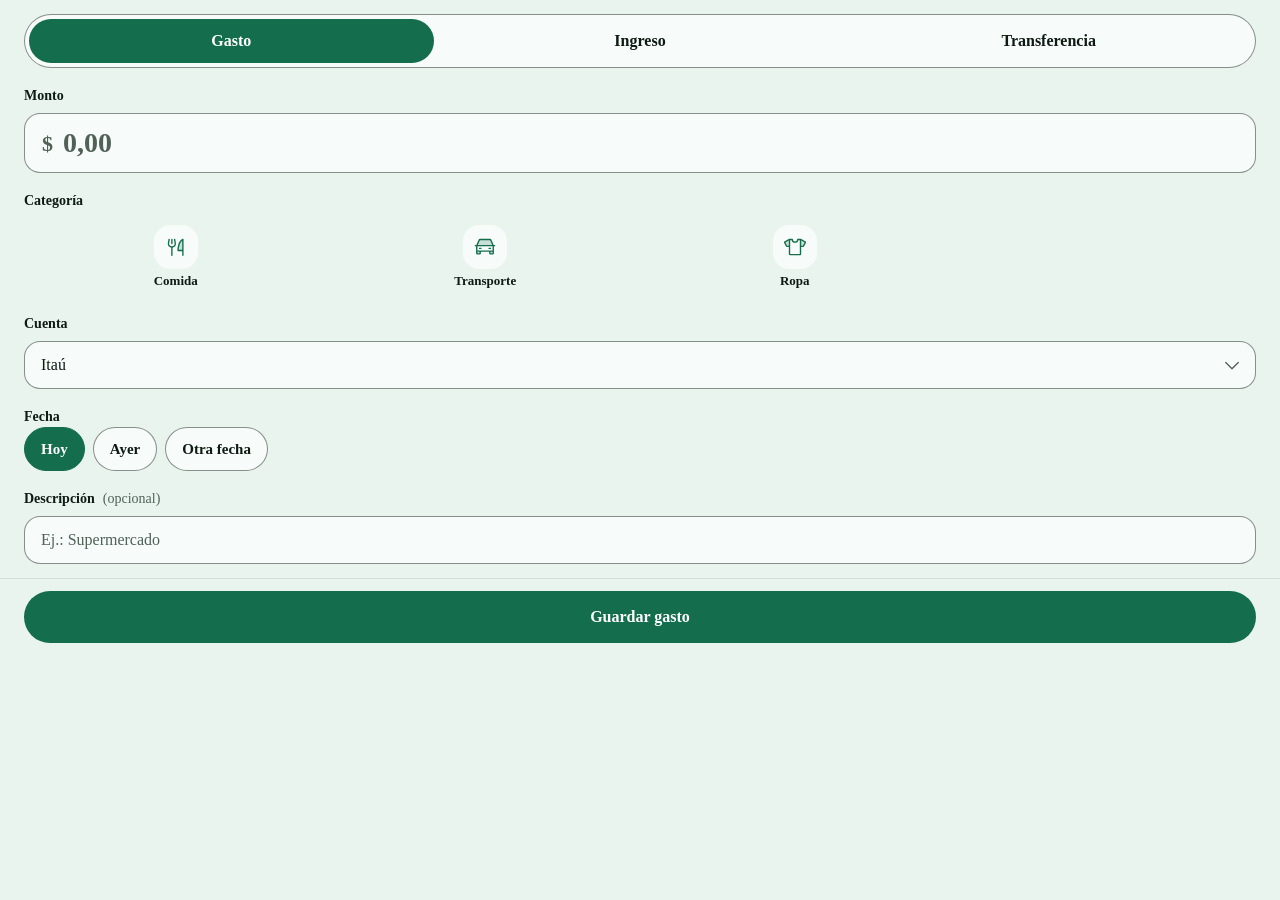
it: changing the type › starts 'Desde' on the account the form had, and 'Hacia' on nothing when there are several
Select "BROU Caja de ahorro" in the dropdown labelled "Cuenta": (640, 365) [24,341,1256,389]
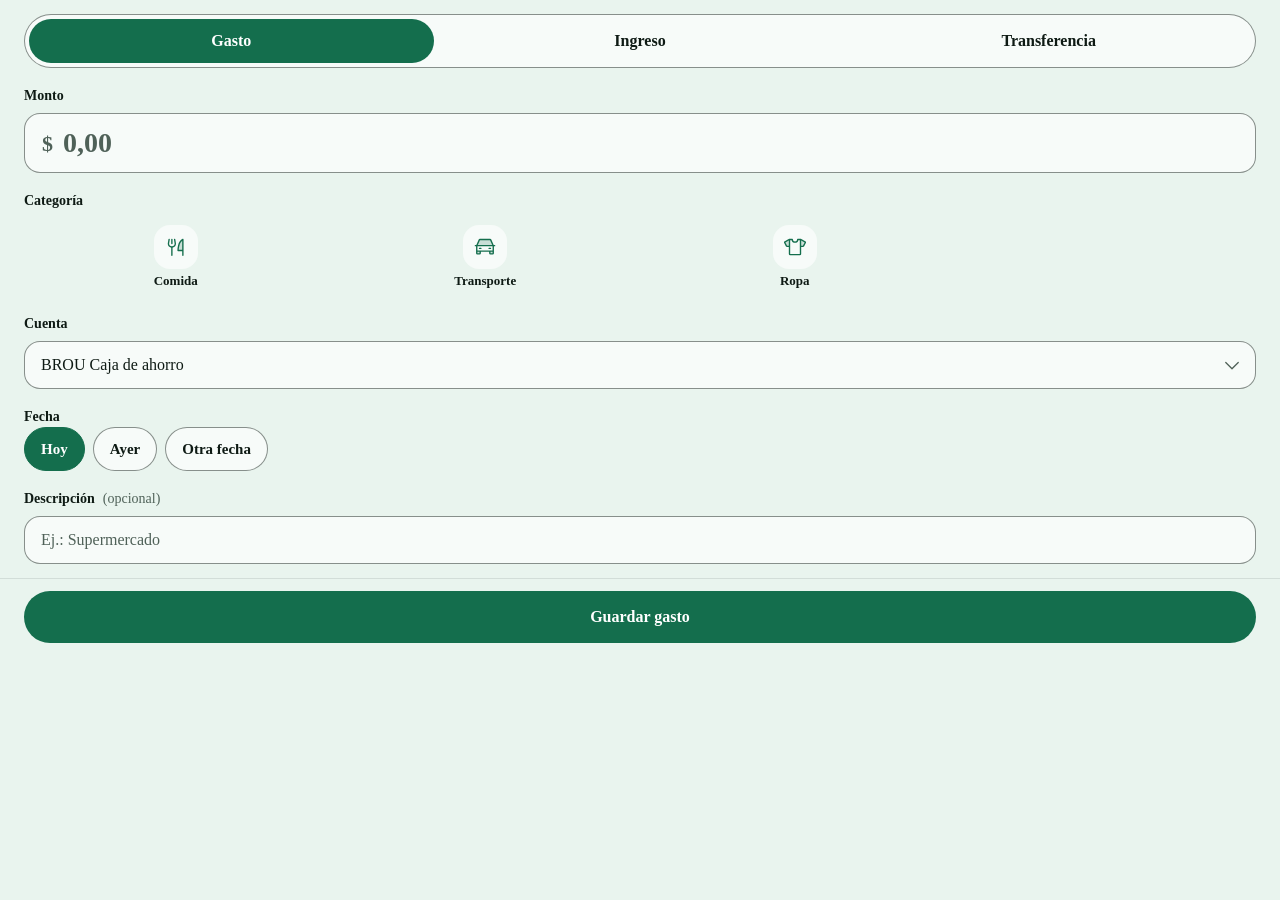
Click the radio button labelled "Transferencia": (1049, 40) [1001,32,1096,49]
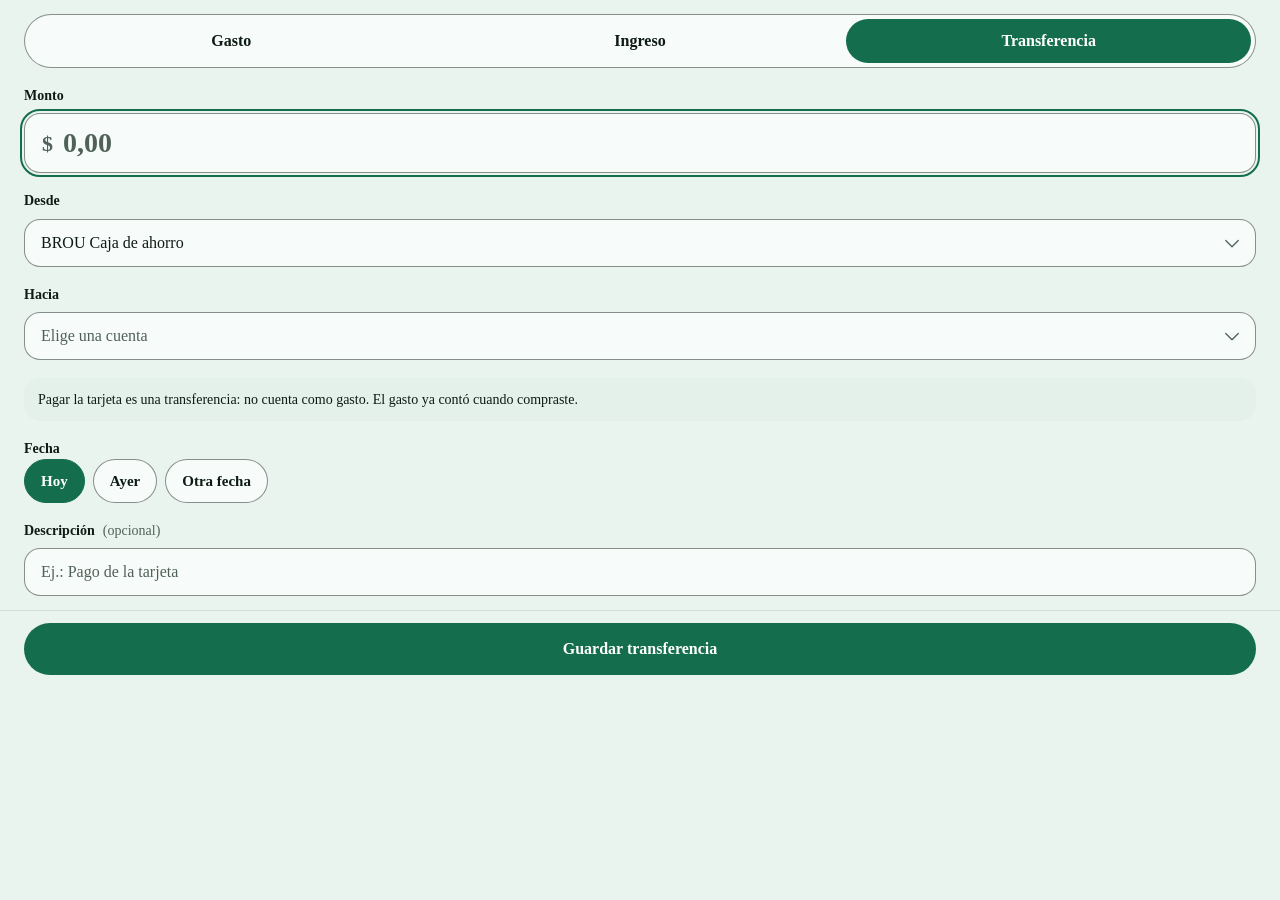
Result: the dropdown labelled "Desde" shows "BROU Caja de ahorro" at [24,218,1256,266]
Result: the dropdown labelled "Hacia" shows "Elige una cuenta" at [24,312,1256,360]
